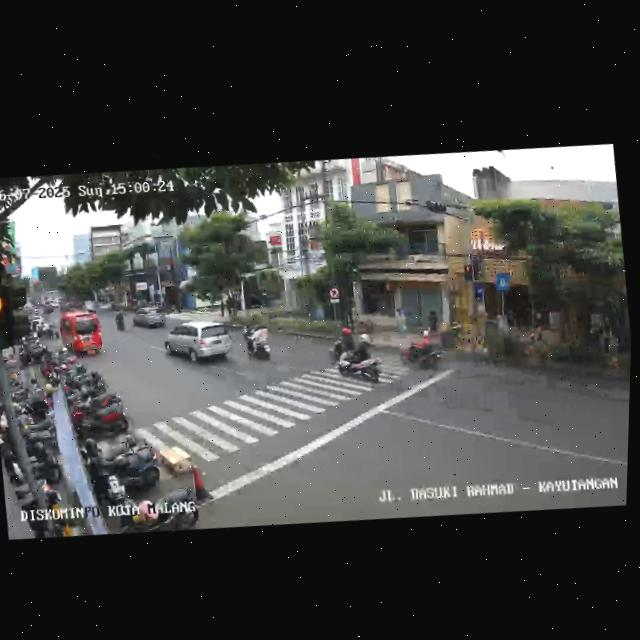car: (161, 314, 237, 373), (54, 305, 105, 361), (130, 301, 168, 333)
motorcycle: (330, 327, 391, 394), (398, 323, 445, 375), (243, 320, 275, 366), (113, 307, 128, 332)
